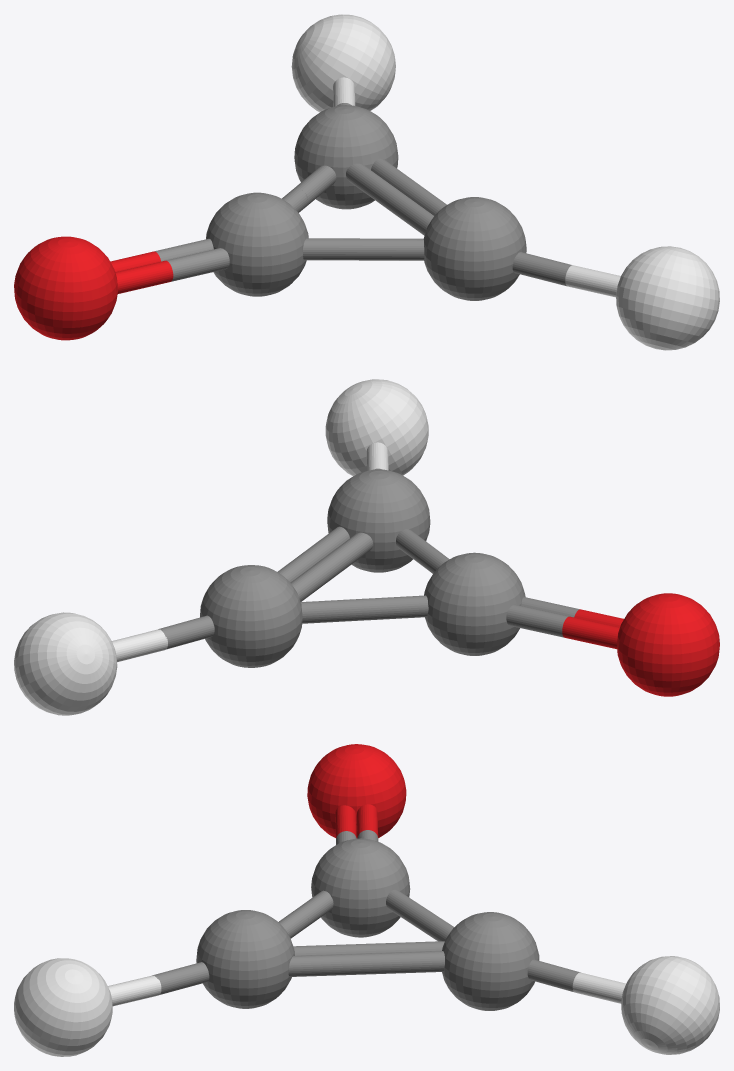
Rendered from cyclopropenone.fbx.
3 views of the same model, one above another, from view 1: azimuth 30°, elevation 25°; view 2: azimuth 150°, elevation 25°; view 3: azimuth 270°, elevation 25° (orthographic). The views are drawn at different scales.
Visible parts, largest first — view 1: Sphere.015, Sphere.010, Sphere.014, Sphere.004, Sphere.006, Sphere.005, Cylinder.015, Cylinder.027, Cylinder.006, Cylinder.003, Cylinder.025, Cylinder.017 (+6 smaller); view 2: Sphere.010, Sphere.006, Sphere.005, Sphere.004, Sphere.015, Sphere.014, Cylinder.015, Cylinder.010, Cylinder.007, Cylinder.006, Cylinder.000, Cylinder.001 (+5 smaller); view 3: Sphere.006, Sphere.015, Sphere.005, Sphere.014, Sphere.004, Sphere.010, Cylinder.006, Cylinder.015, Cylinder.029, Cylinder.012, Cylinder.028, Cylinder.011 (+6 smaller).
Boxes of the visible parts, box(x1,y1,x2,y2) form: Sphere.015: box(616, 246, 719, 350); Sphere.010: box(14, 236, 117, 340); Sphere.014: box(423, 197, 526, 300); Sphere.004: box(206, 192, 308, 296); Sphere.006: box(291, 14, 395, 112); Sphere.005: box(294, 105, 398, 209); Cylinder.015: box(346, 163, 433, 235); Cylinder.027: box(359, 238, 424, 260); Cylinder.006: box(371, 158, 446, 215); Cylinder.003: box(166, 248, 229, 281); Cylinder.025: box(303, 238, 359, 260); Cylinder.017: box(115, 260, 173, 293); Sphere.010: box(617, 593, 719, 696); Sphere.006: box(14, 612, 117, 715); Sphere.005: box(200, 565, 302, 667); Sphere.004: box(424, 552, 525, 655); Sphere.015: box(325, 379, 428, 476); Sphere.014: box(327, 469, 430, 572); Cylinder.015: box(290, 532, 373, 601); Cylinder.010: box(301, 598, 365, 623); Cylinder.007: box(364, 595, 428, 620); Cylinder.006: box(277, 526, 349, 582); Cylinder.000: box(506, 604, 568, 637); Cylinder.001: box(562, 616, 619, 649); Sphere.006: box(621, 956, 719, 1054); Sphere.015: box(14, 958, 112, 1056); Sphere.005: box(442, 912, 539, 1010); Sphere.014: box(196, 910, 294, 1008); Sphere.004: box(311, 838, 410, 937); Sphere.010: box(307, 744, 406, 838); Cylinder.006: box(288, 951, 444, 976); Cylinder.015: box(293, 941, 444, 955); Cylinder.029: box(108, 975, 161, 1006); Cylinder.012: box(572, 972, 625, 1003); Cylinder.028: box(152, 962, 209, 994); Cylinder.011: box(527, 959, 580, 991).
Bounding box in the file's own units: 90.46 × 16.23 × 108.
